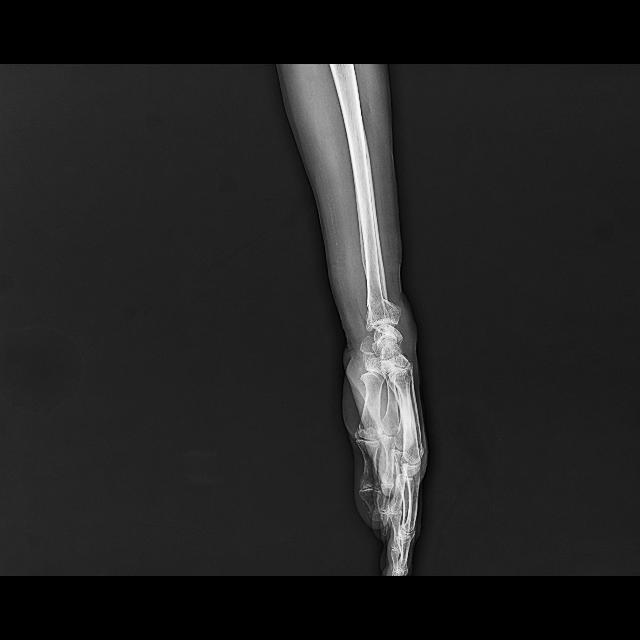Fracture: (362, 297, 405, 326)
